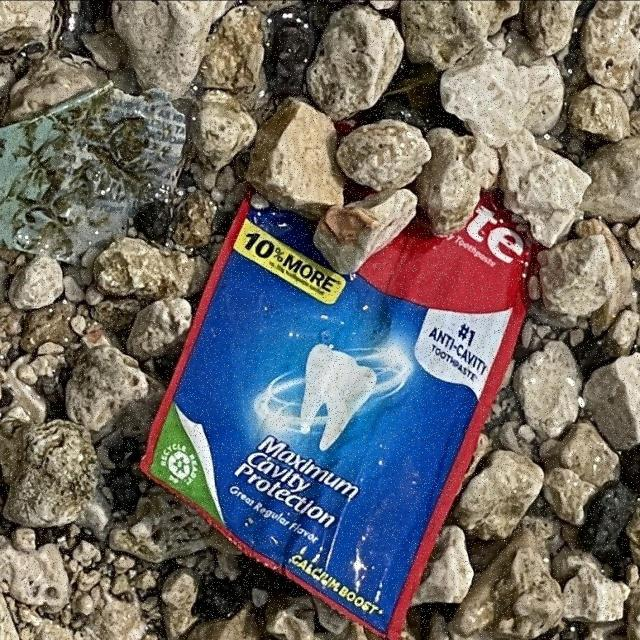plastic_waste: (136, 188, 542, 640)
